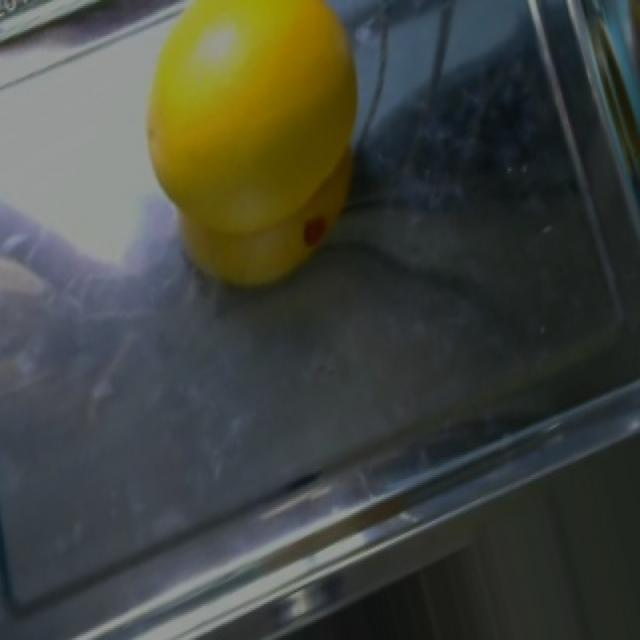Fruit: (126, 0, 378, 314)
